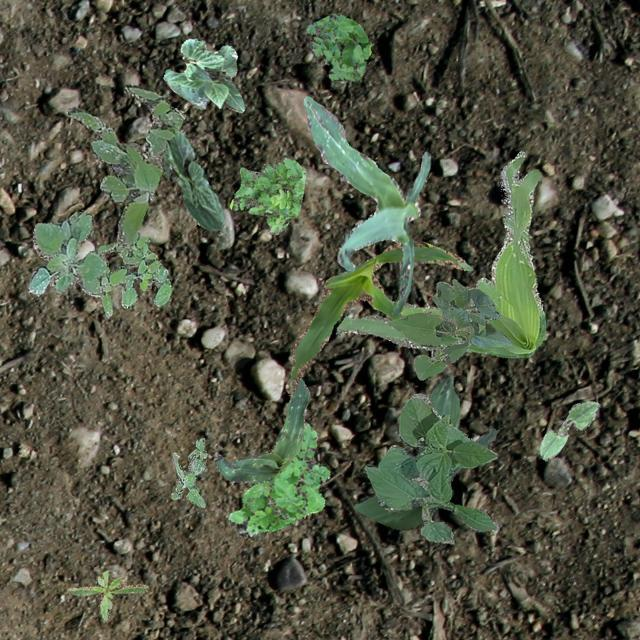crop: (284, 240, 472, 400), (302, 94, 430, 314), (352, 374, 498, 528), (362, 392, 497, 542), (386, 277, 510, 378), (214, 378, 308, 482), (160, 130, 222, 230), (162, 38, 244, 112), (538, 400, 598, 460)
weed: (334, 150, 544, 357), (66, 83, 186, 250), (228, 419, 328, 536), (84, 230, 170, 316), (26, 210, 106, 296), (228, 156, 304, 234), (306, 13, 370, 80), (66, 570, 148, 620), (170, 436, 207, 506)
